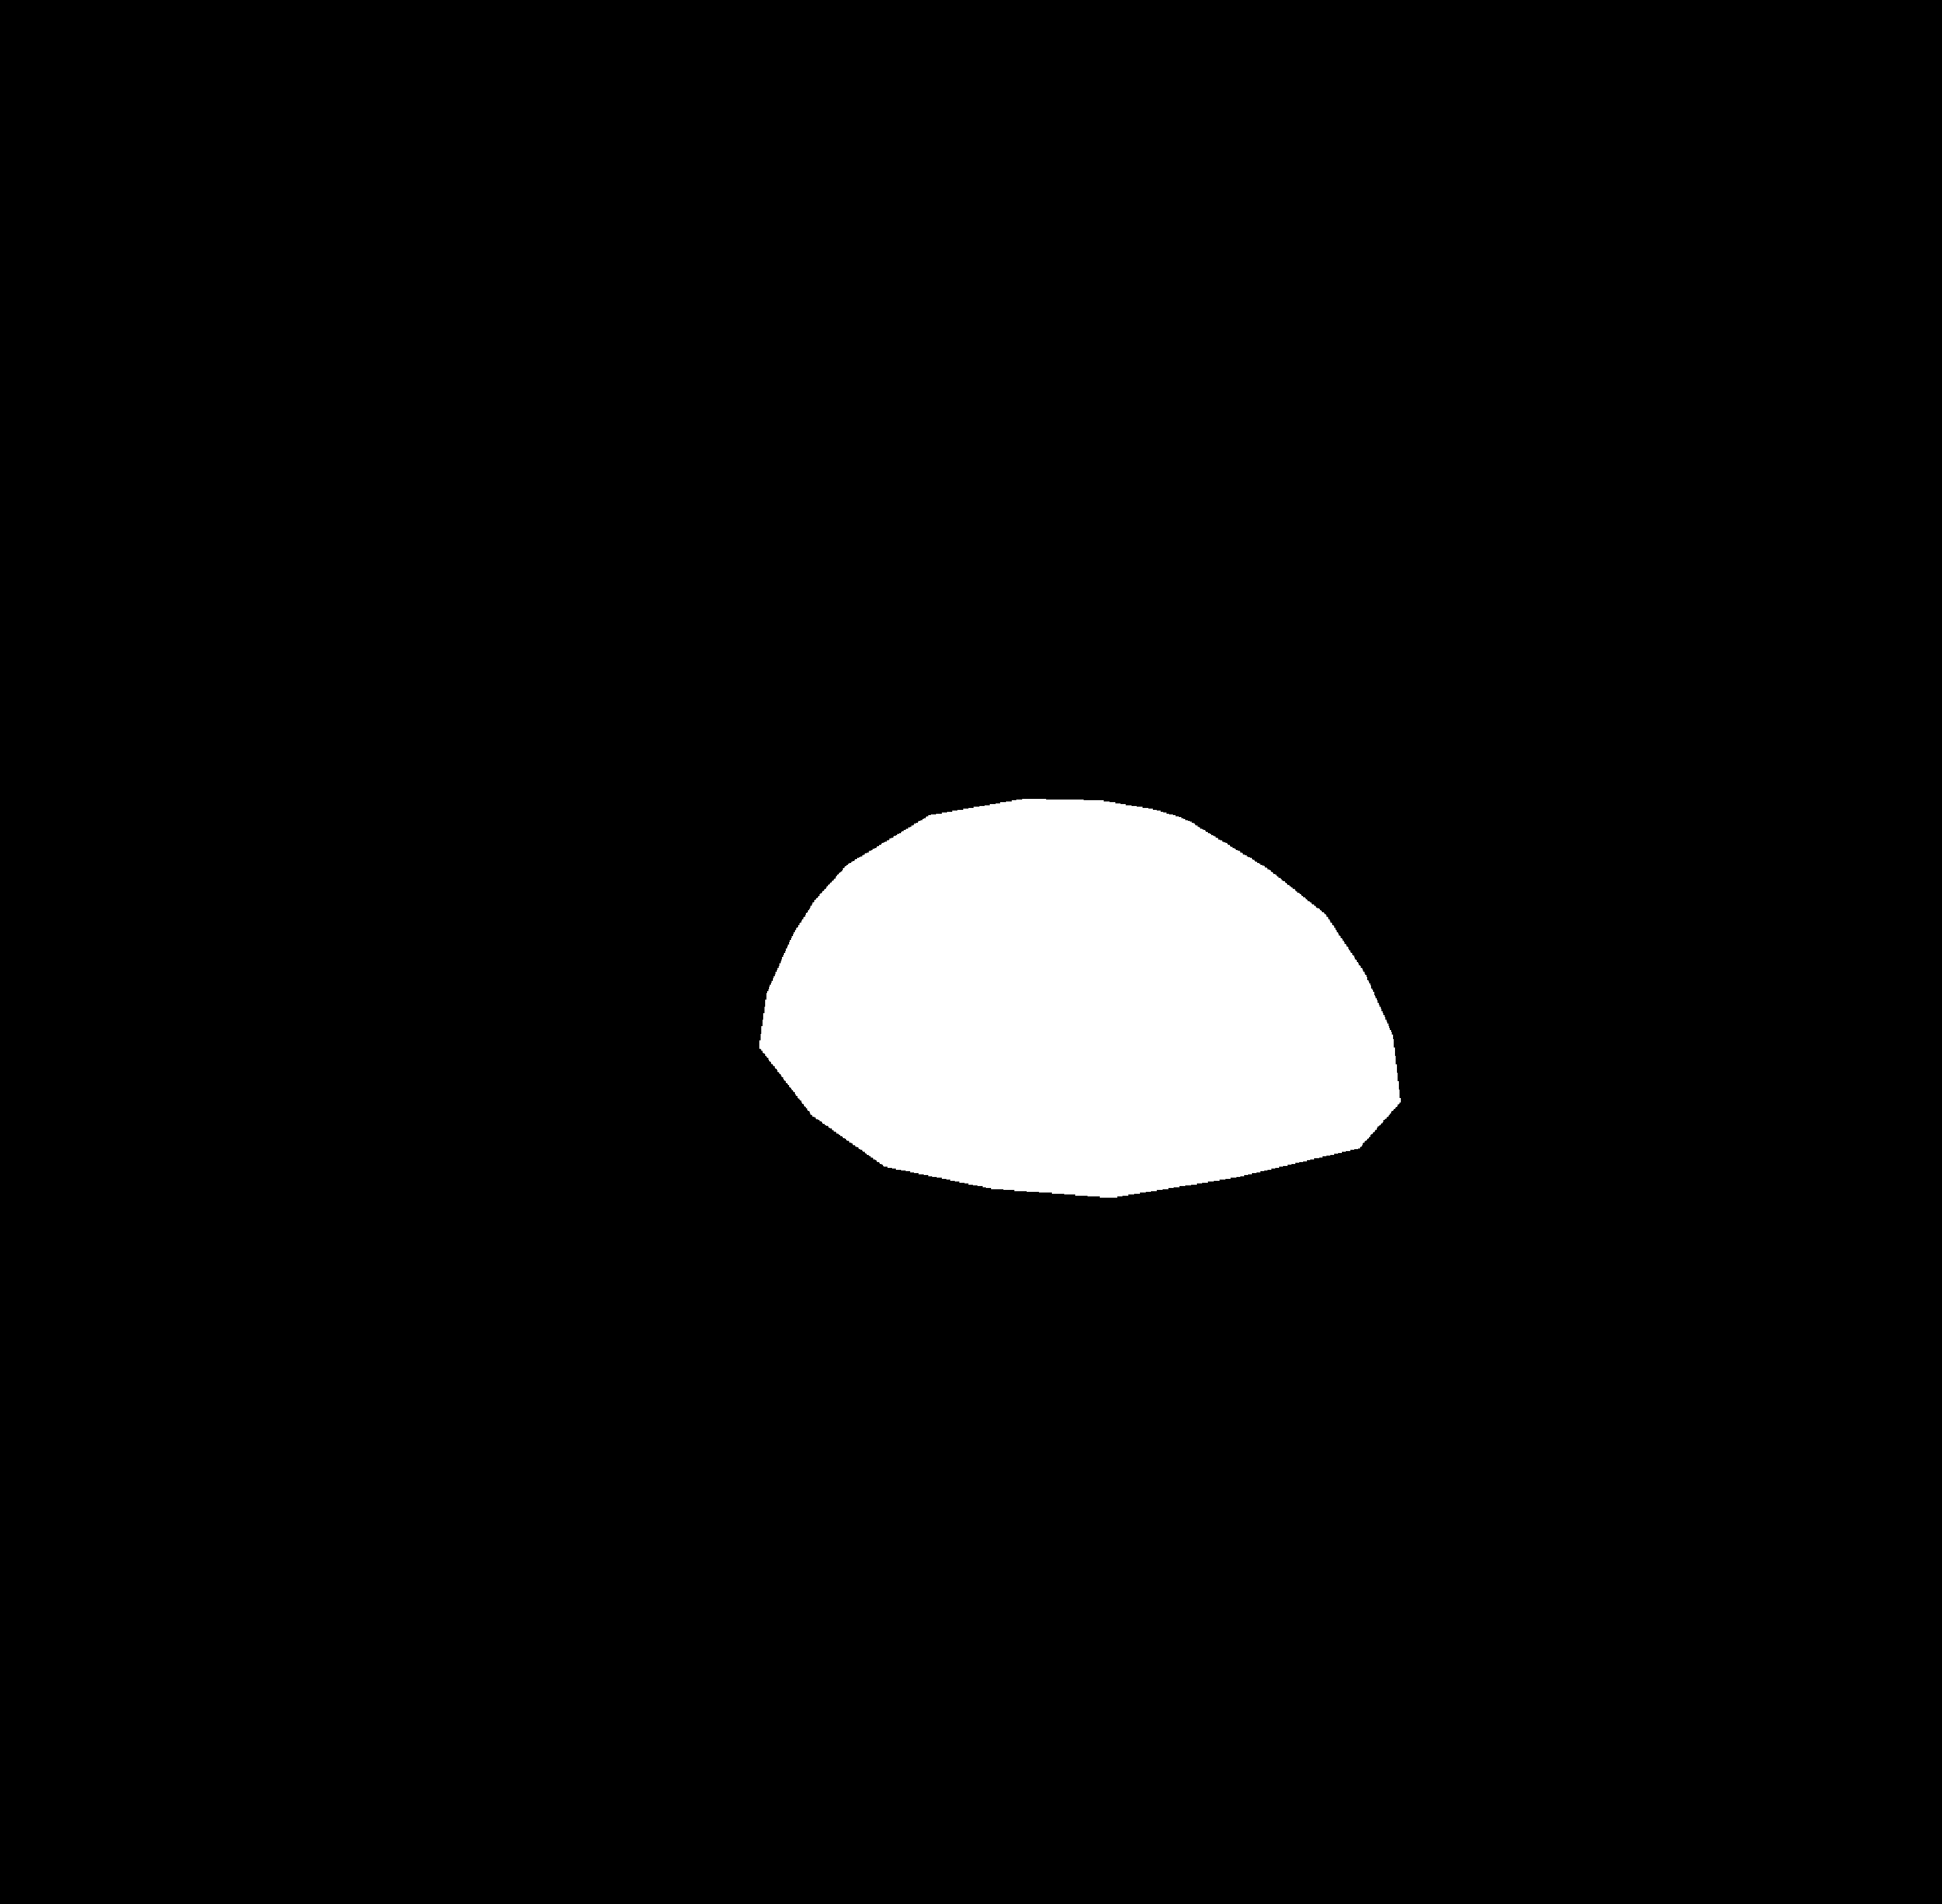heart: (765, 840, 1396, 1166)
left_lung: (314, 284, 940, 1182)
right_lung: (1091, 330, 1647, 1177)
